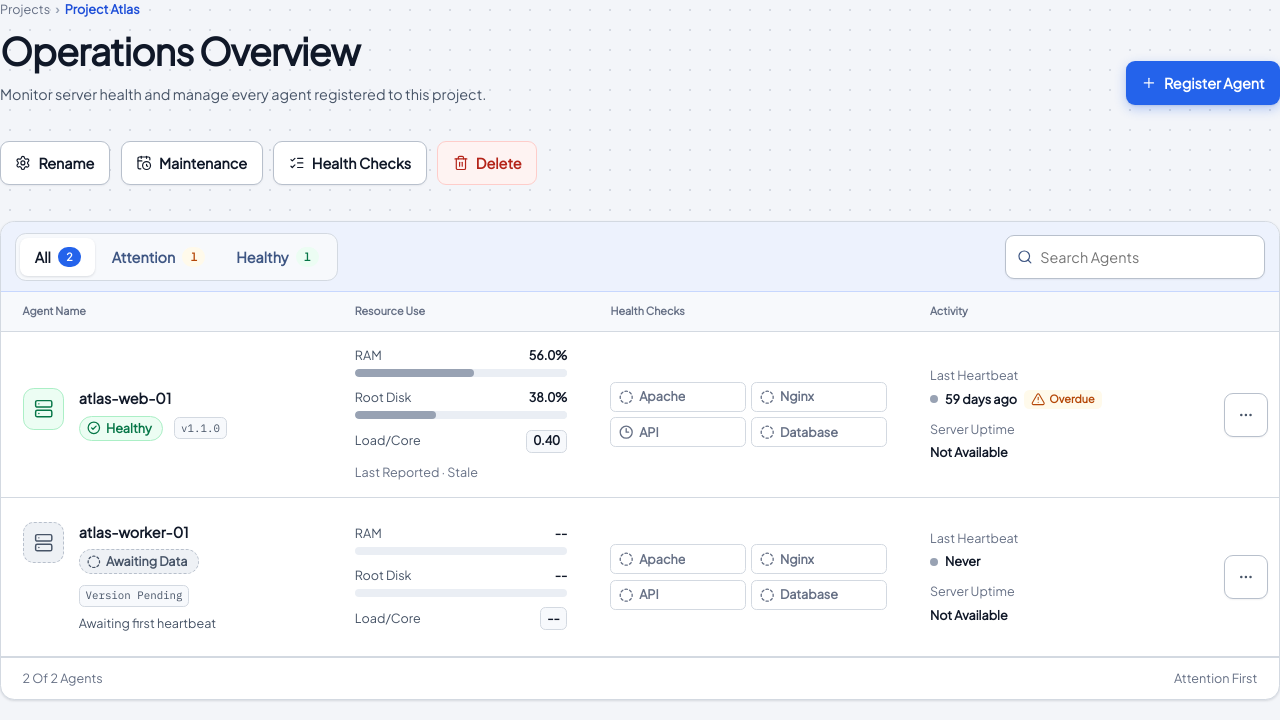
Test case: project-scoped agents page › keeps row navigation separate from opening More and Edit
expect the text "atlas-web-01" is shown: met, box [79,388,171,408]
Step 1. Click the button named "More Actions For atlas-web-01" → (1246, 414), box [1224,392,1268,436]
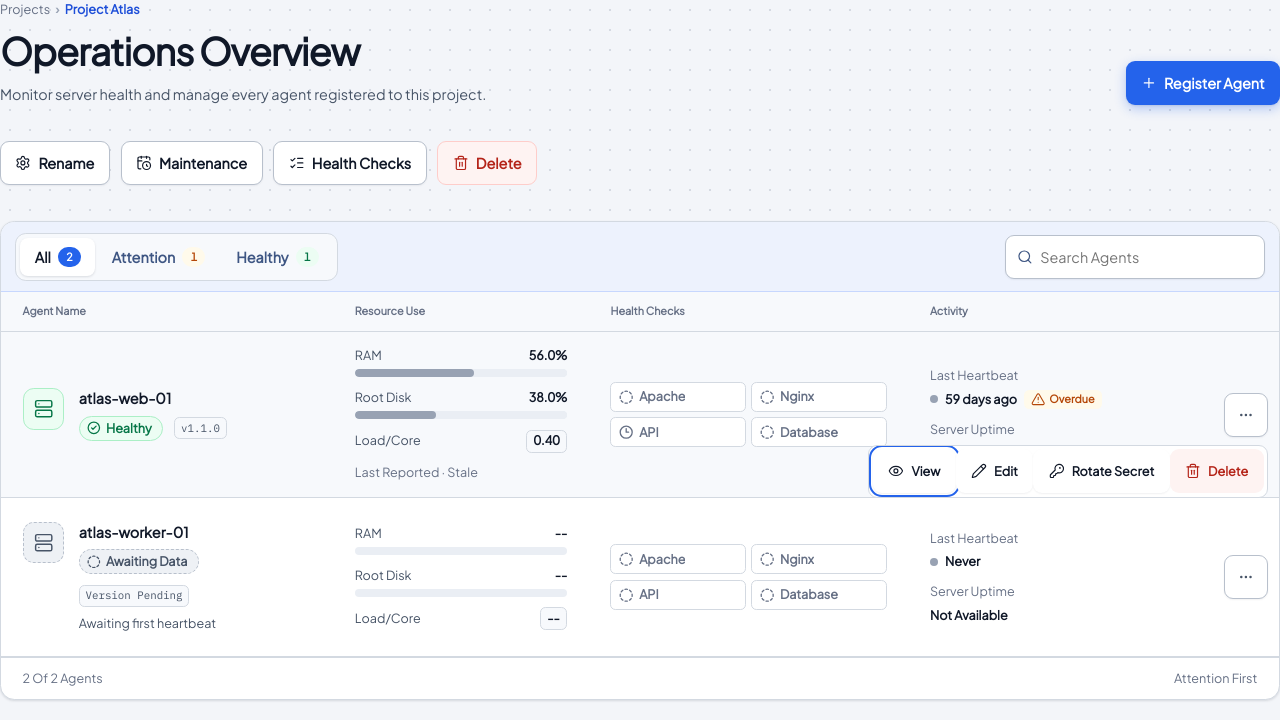
Step 2. Click the button with aria-label "Edit atlas-web-01" → (995, 471), box [956,449,1033,493]
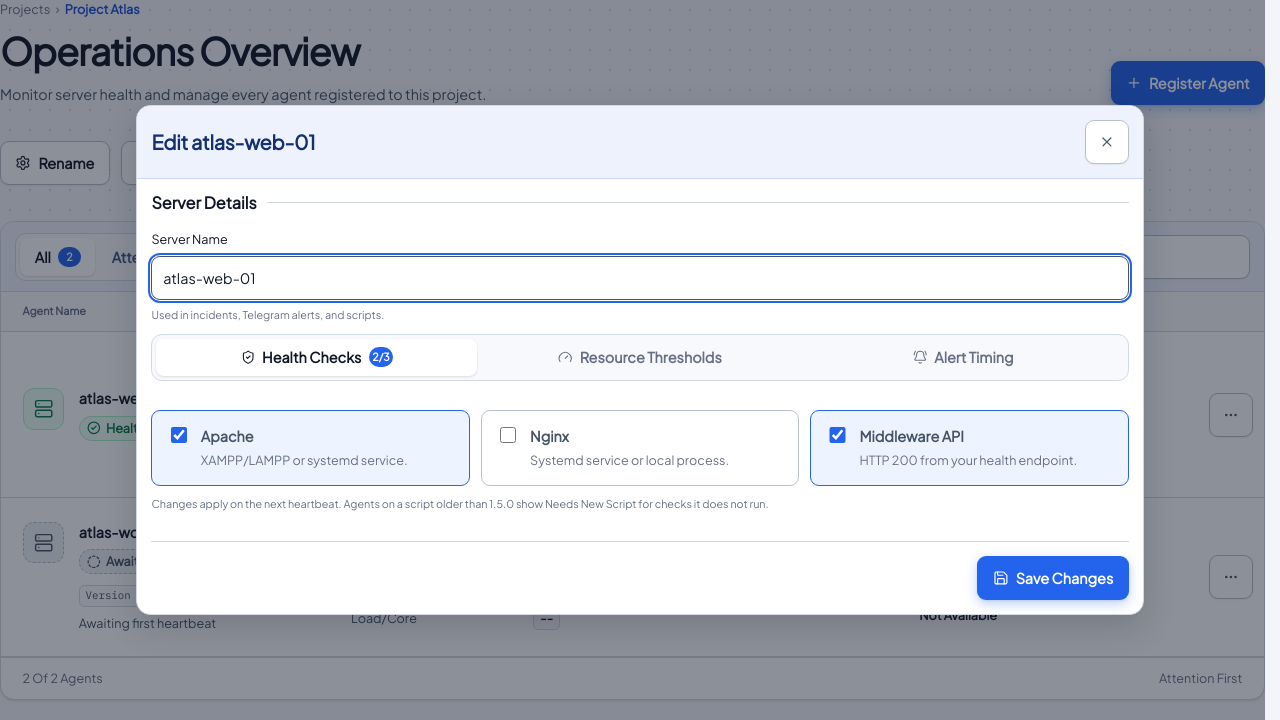
expect the dialog "Edit atlas-web-01" is shown: met, box [136,105,1144,615]
